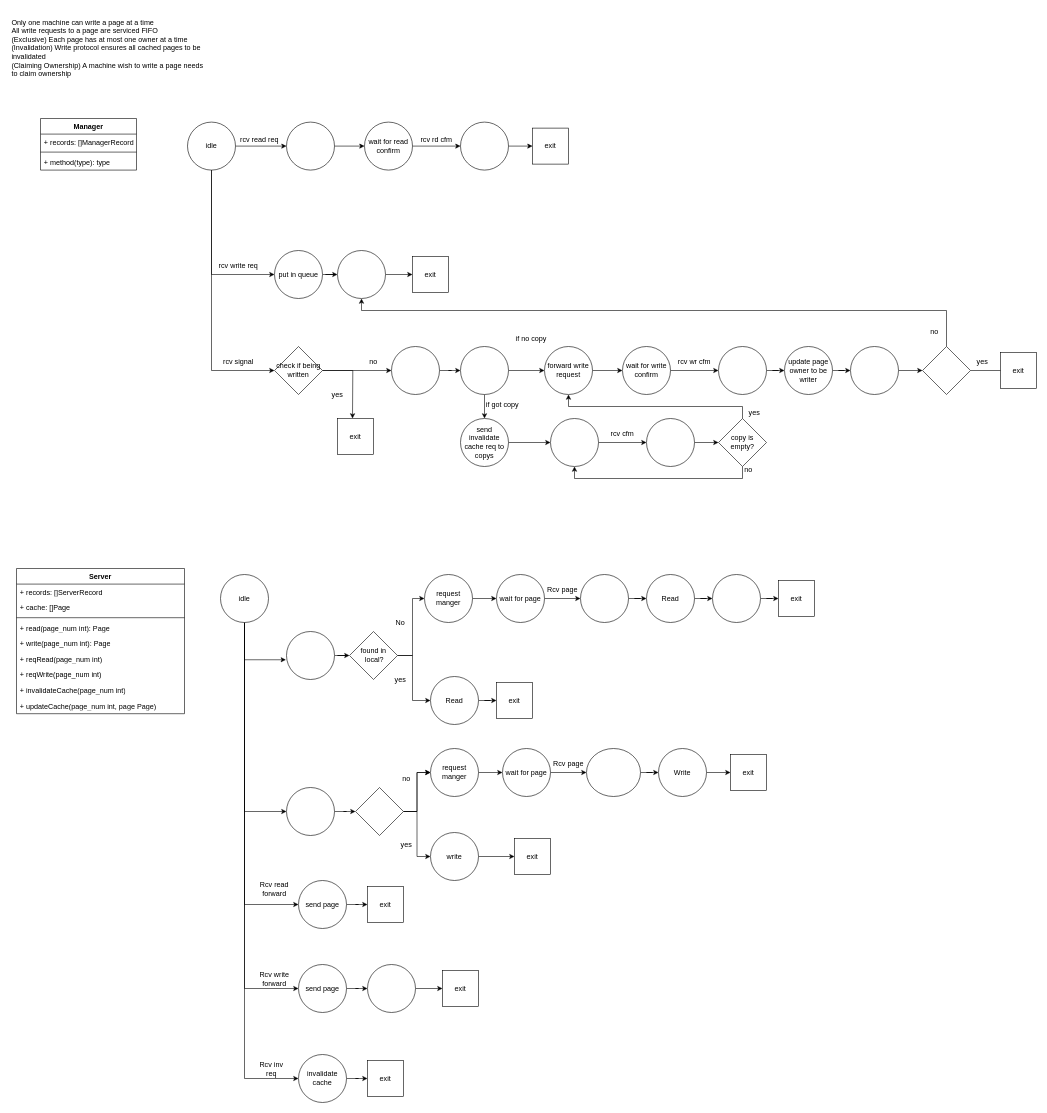
Image size: 1047x1113. Some labels were removed from this diagram. Here are the shapes that lost their labels. From the top down, the centre of each, then its label:
At pixel 310 146: "foward read".
At pixel 484 146: "add reader to copy set".
At pixel 361 274: "send signal".
At pixel 415 370: "mark page as being written".
At pixel 484 370: "pop head of queue".
At pixel 742 370: "remove page written mark".
At pixel 874 370: "check page's queue".
At pixel 946 370: "queue is empty?".
At pixel 574 442: "wait for inval confim".
At pixel 670 442: "pop copy record".
At pixel 604 598: "cache page, mark access as read".
At pixel 736 598: "Confirm to manager".
At pixel 310 655: "request to read page".
At pixel 613 772: "cache page, mark access as RW(owner)".
At pixel 310 811: "request to write page".
At pixel 379 811: "I'm owner?".
At pixel 391 988: "mark access as nil".
